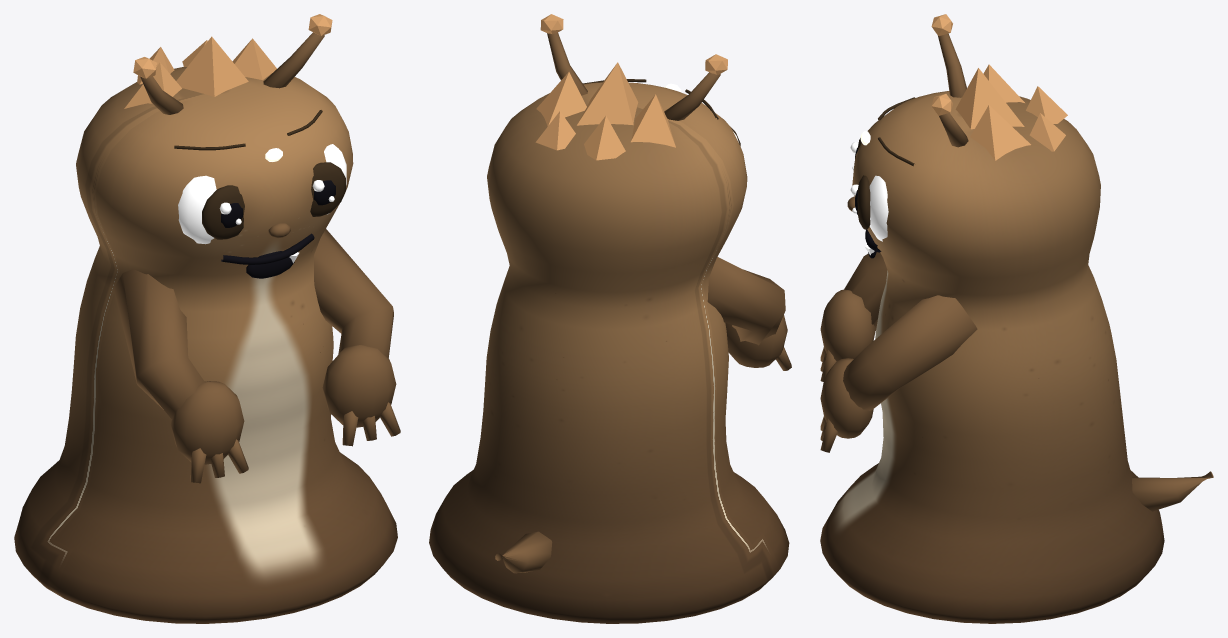
The model's file is roquito_pixar.glb.
3 views of the same model, side by side, from view 1: azimuth 30°, elevation 25°; view 2: azimuth 150°, elevation 25°; view 3: azimuth 270°, elevation 25° (orthographic). The views are drawn at different scales.
Parts seen in each view (by area): view 1: roquito_cuerpo; view 2: roquito_cuerpo; view 3: roquito_cuerpo.
Boxes of the visible parts, x1,y1,x2,y2 form: roquito_cuerpo: (14,14,400,623); roquito_cuerpo: (429,14,791,623); roquito_cuerpo: (820,14,1213,623).
Size of the model in its own units: 0.3839 by 0.58 by 0.4176.
Materials: 6 (1 with a texture image).
